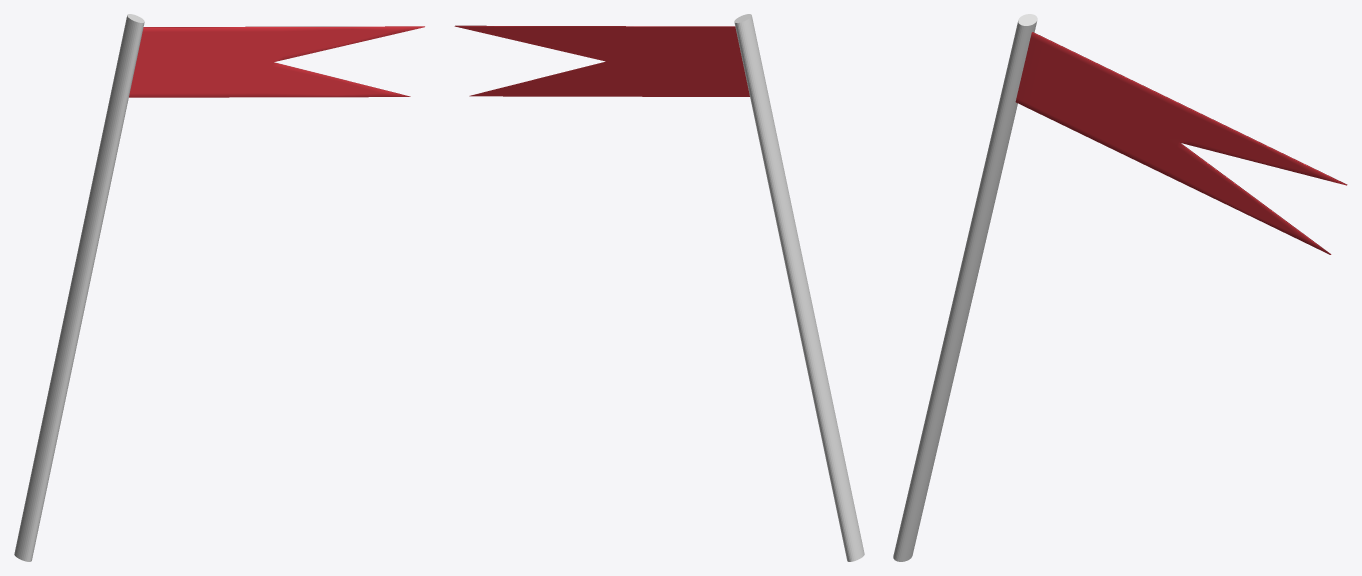
File: flag2.fbx
3 views of the same model, side by side, from view 1: azimuth 30°, elevation 25°; view 2: azimuth 150°, elevation 25°; view 3: azimuth 330°, elevation 25° (orthographic). The views are drawn at different scales.
Parts seen in each view (by area): view 1: Plane.001, Cylinder.002; view 2: Plane.001, Cylinder.002; view 3: Plane.001, Cylinder.002.
Boxes of the visible parts, x1=… form: Plane.001: x1=129, y1=26, x2=424, y2=97; Cylinder.002: x1=14, y1=14, x2=144, y2=561; Plane.001: x1=454, y1=25, x2=749, y2=96; Cylinder.002: x1=734, y1=14, x2=864, y2=561; Plane.001: x1=1015, y1=32, x2=1347, y2=254; Cylinder.002: x1=893, y1=14, x2=1037, y2=561.
Bounding box in the file's own units: 3811 × 4593 × 200.
